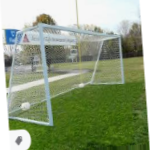goals: (6, 23, 125, 129)
